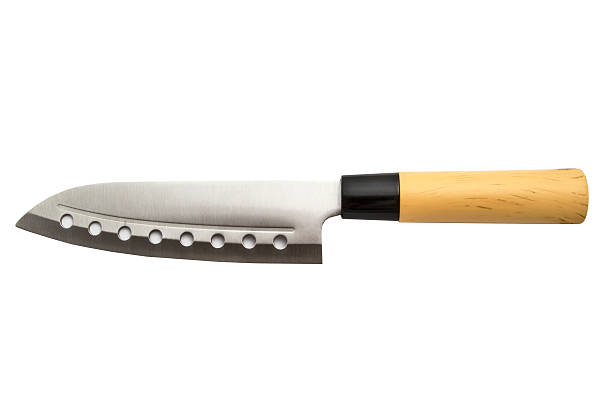knife: (11, 166, 591, 267)
